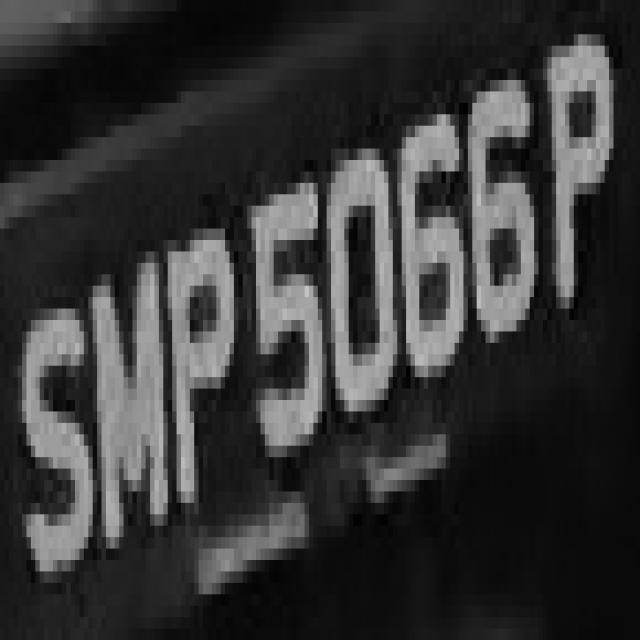0: (313, 114, 402, 446)
5: (238, 148, 327, 468)
6: (455, 57, 547, 377), (388, 57, 464, 434)
M: (88, 217, 181, 537)
P: (534, 0, 627, 343), (154, 206, 238, 537)
S: (18, 286, 106, 606)
